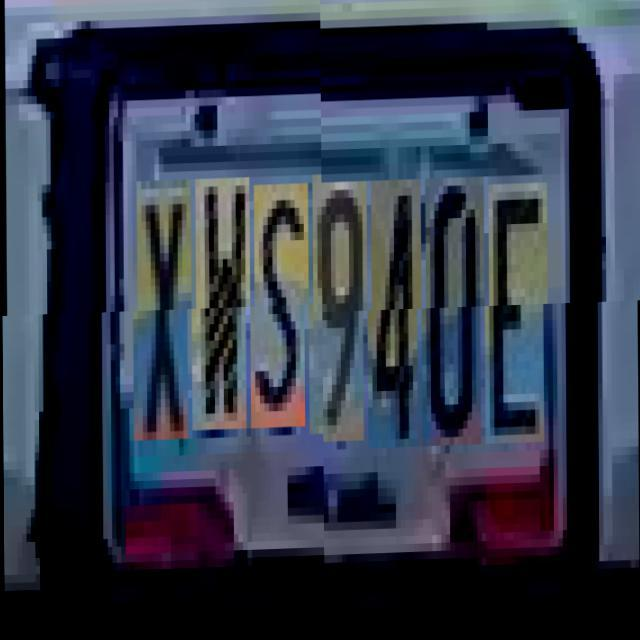0: (425, 180, 485, 450)
4: (371, 182, 422, 451)
9: (312, 183, 368, 444)
E: (488, 186, 548, 448)
S: (254, 194, 309, 438)
W: (196, 187, 250, 440)
X: (136, 189, 192, 450)
